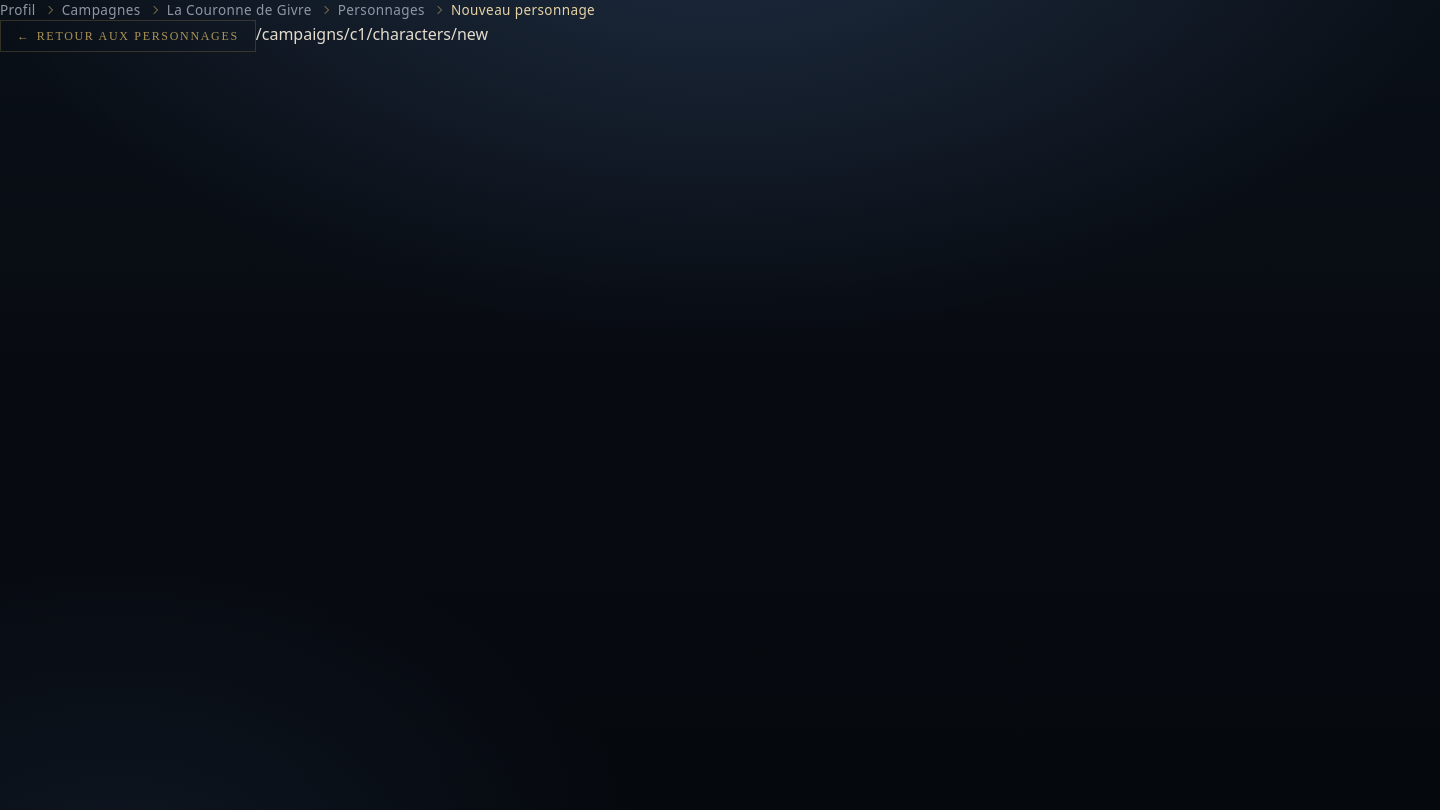
Test: LeaveBuilderContainer › quitter mène à l'étape cliquée, et désarme la garde
This screenshot has width=1440, height=810.
Click the link "Campagnes" at (101, 10), box [62,0,141,20]
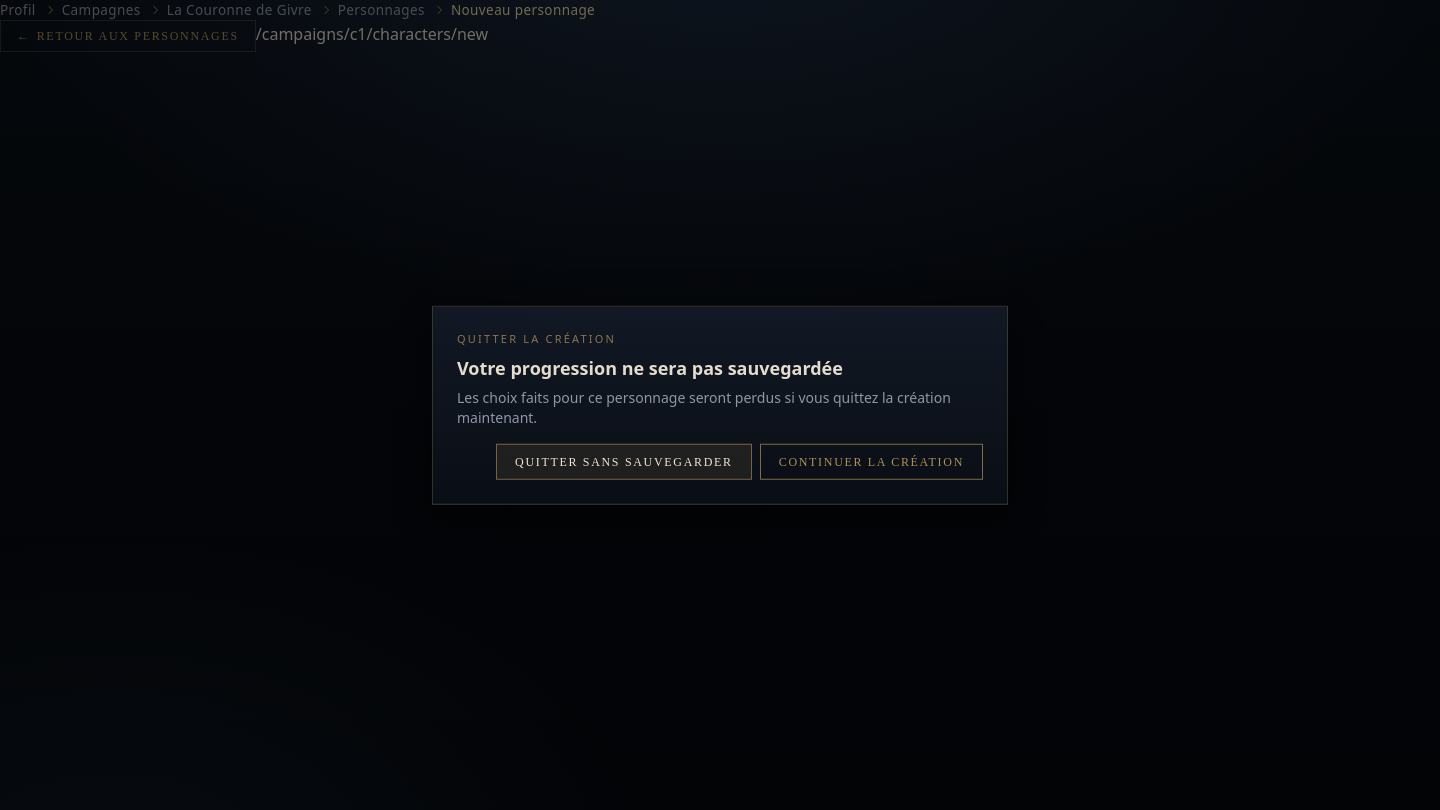
Click the link "Quitter sans sauvegarder" at (624, 461), box [496,443,752,479]
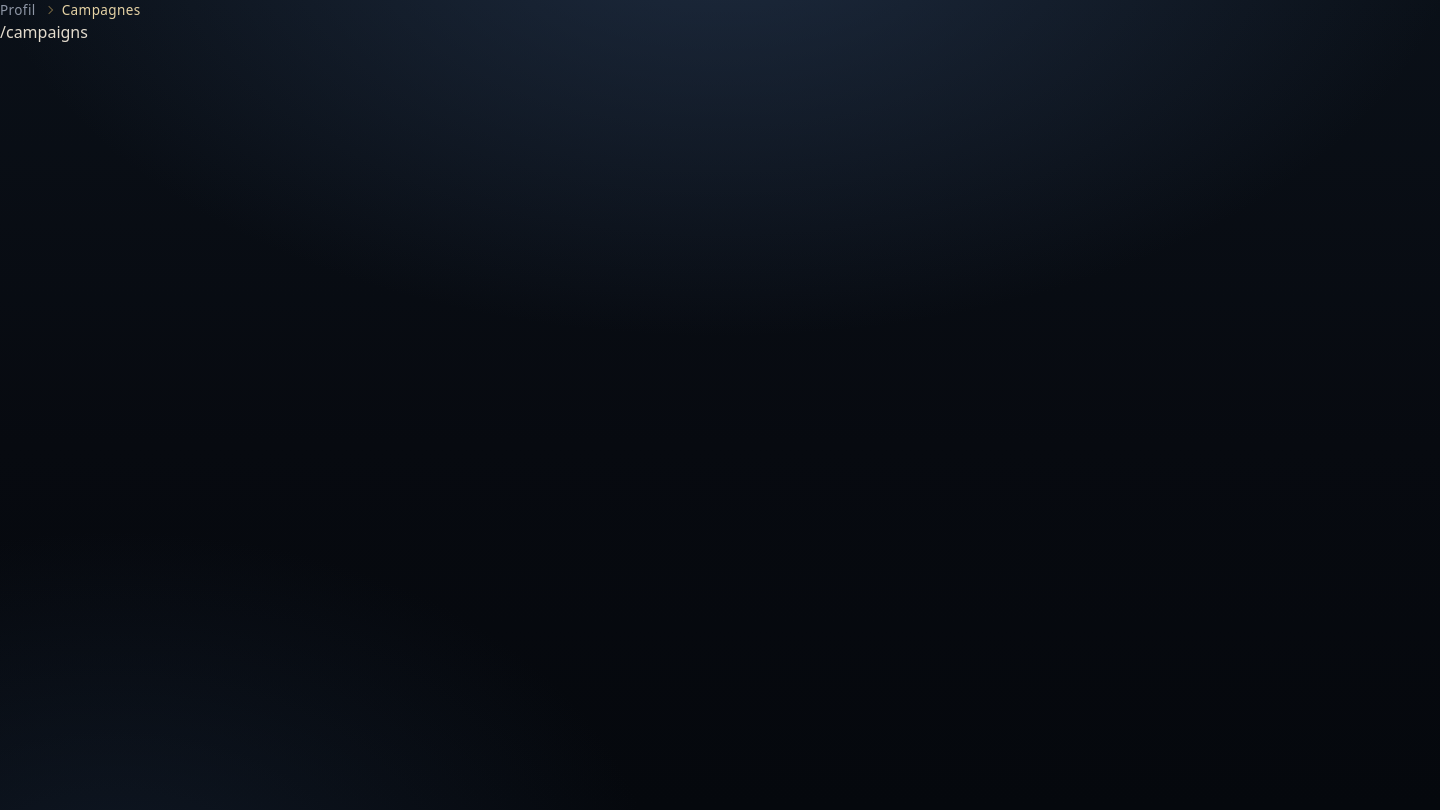
Expected: the text named "adresse" reads "/campaigns", [0,21,88,43]
